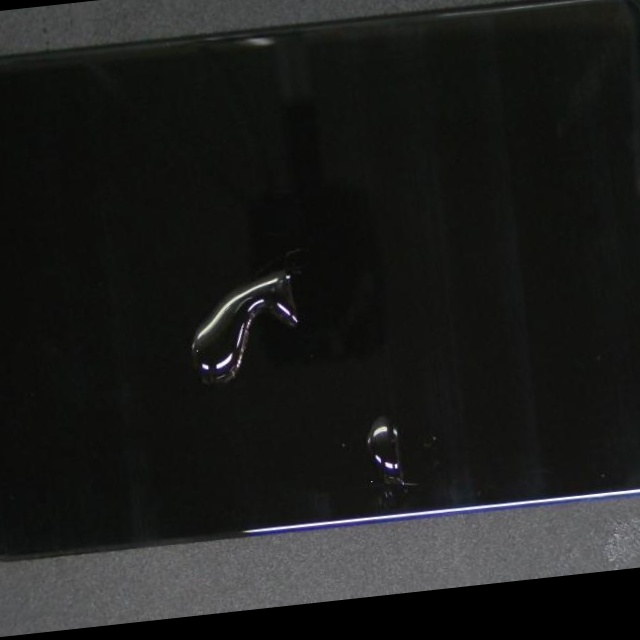oil: (101, 157, 595, 621), (38, 124, 334, 541)
